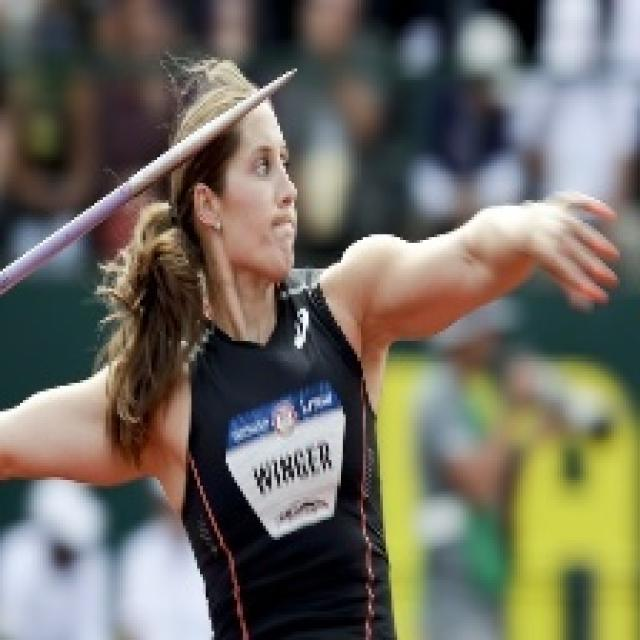javelin: (1, 0, 391, 548)
